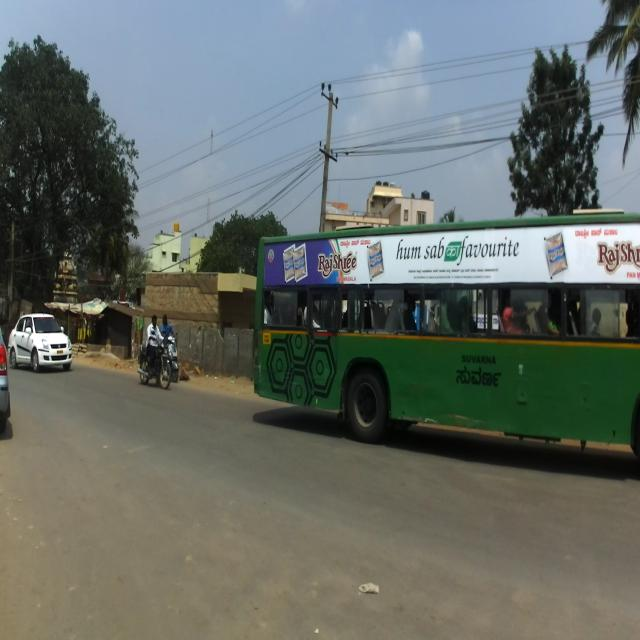bus ahead at: (249, 222, 639, 458)
